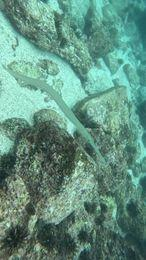Fistularia commersonii: (16, 52, 114, 176)
